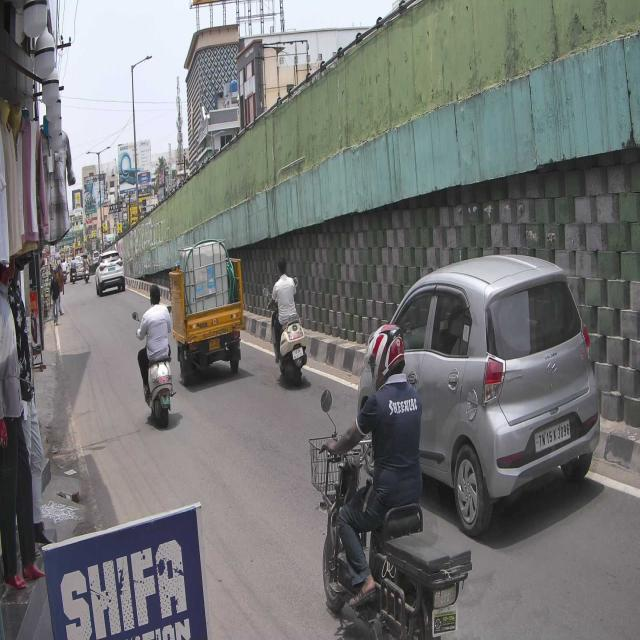single_rider: (312, 319, 474, 640), (134, 285, 178, 427), (264, 253, 308, 384)
